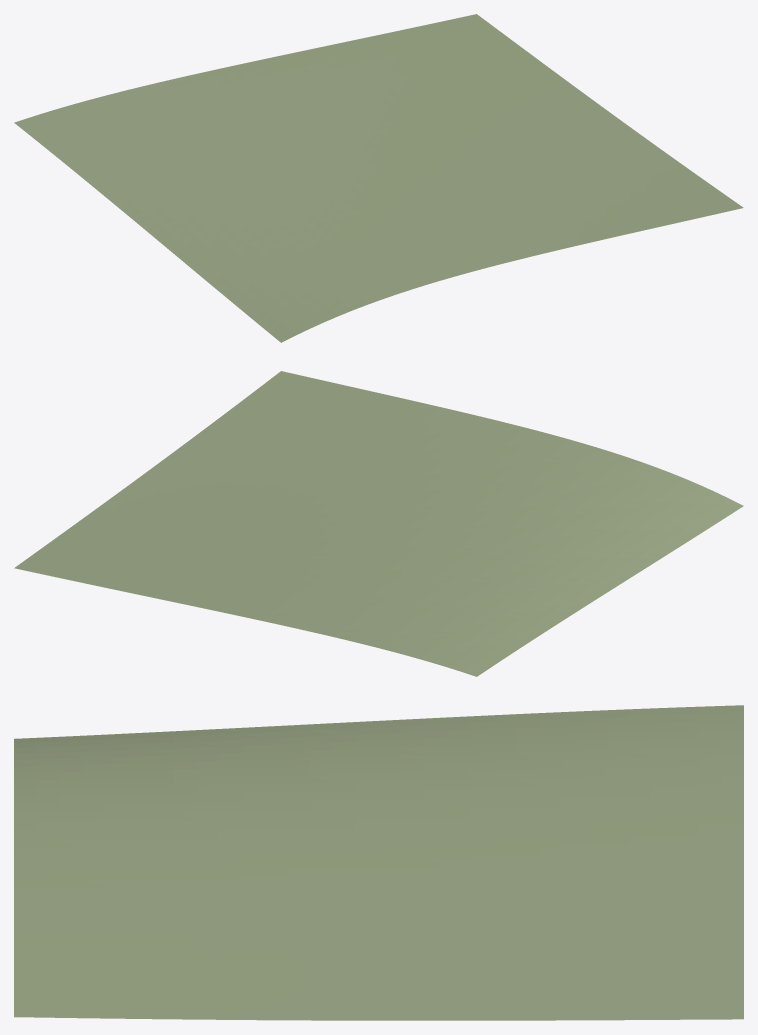
The model's file is expanse-14-24.glb.
3 views of the same model, one above another, from view 1: azimuth 30°, elevation 25°; view 2: azimuth 150°, elevation 25°; view 3: azimuth 270°, elevation 25° (orthographic). The views are drawn at different scales.
Visible parts, largest first — view 1: expanse-14-24; view 2: expanse-14-24; view 3: expanse-14-24.
Boxes of the visible parts, left/top/right/bottom form: expanse-14-24: left=14, top=14, right=743, bottom=342; expanse-14-24: left=14, top=371, right=743, bottom=676; expanse-14-24: left=14, top=705, right=743, bottom=1020.
Bounding box in the file's own units: 256 × 15.67 × 256.
